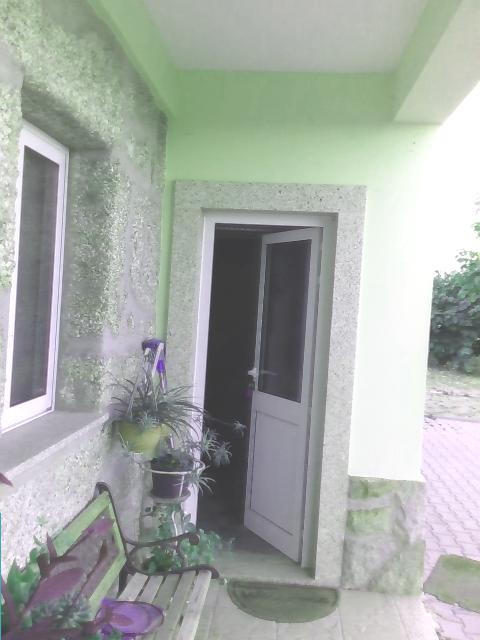semi_door: (184, 208, 339, 576)
